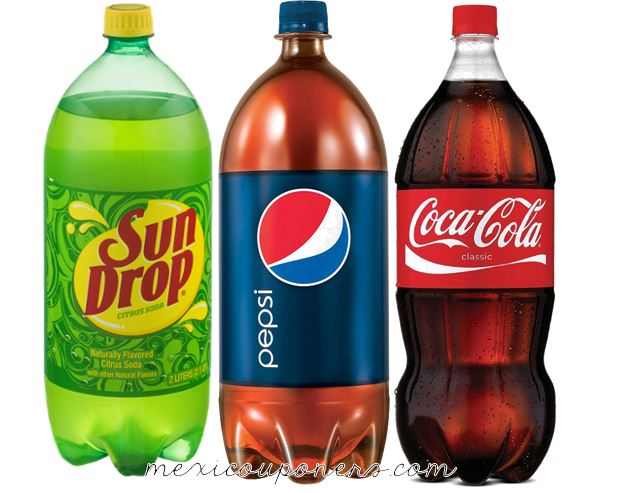pepsi: (251, 186, 350, 285), (255, 186, 350, 285)
